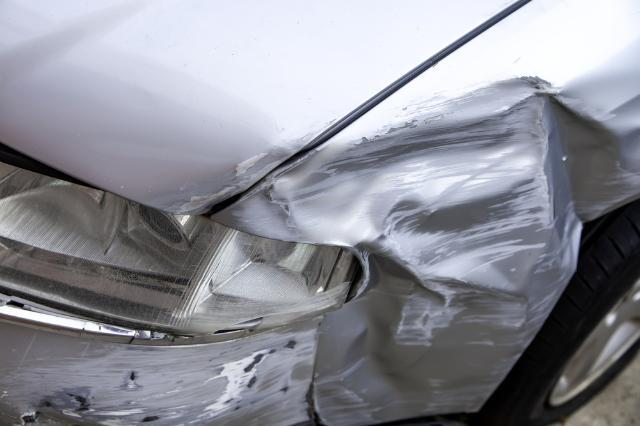dent: (214, 83, 640, 426)
scratch: (0, 306, 370, 426), (160, 121, 334, 214)
